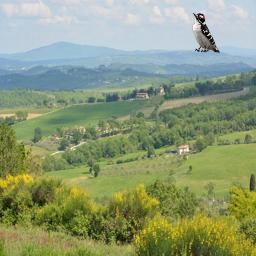Woodpecker: (192, 13, 220, 53)
